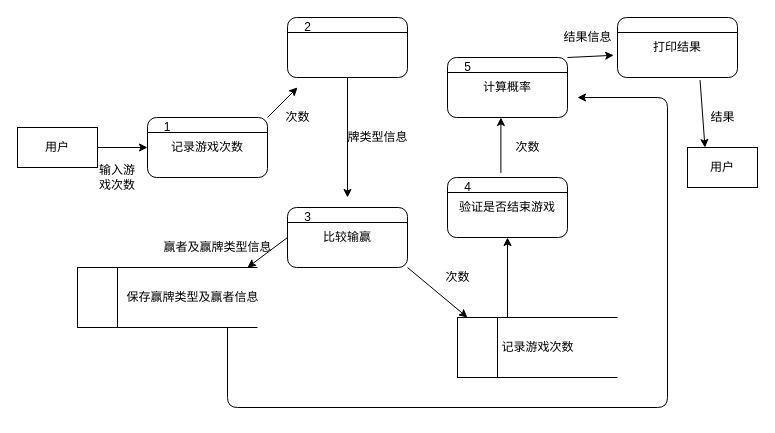
Some shapes in this 775 by 433 pixel diagram are drawn without their labels. The box of each missing label's shape, as (x1, y1, x2, y2) in pixels:
D1: (76, 266, 118, 328)
D2: (456, 316, 498, 378)
发牌: (286, 16, 408, 78)
